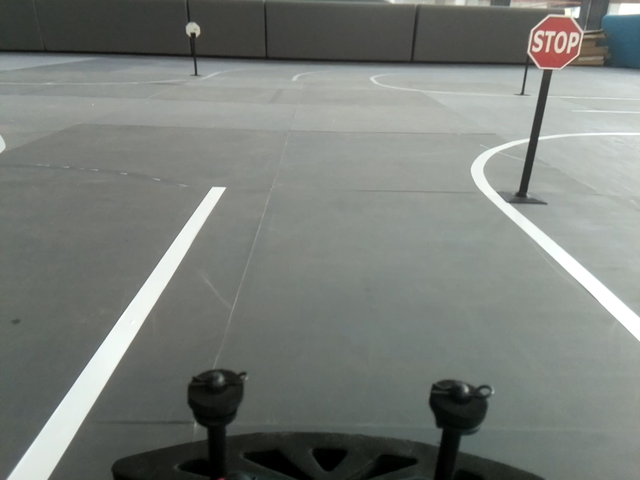stop: (528, 14, 582, 69)
